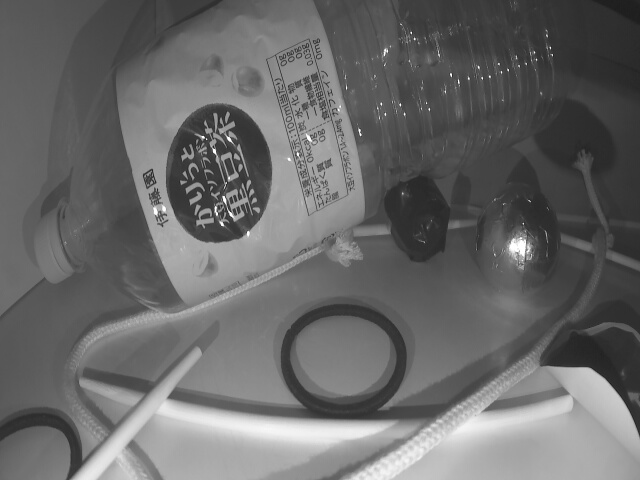Dead: (390, 179, 449, 257)
Live: (476, 182, 558, 288)
